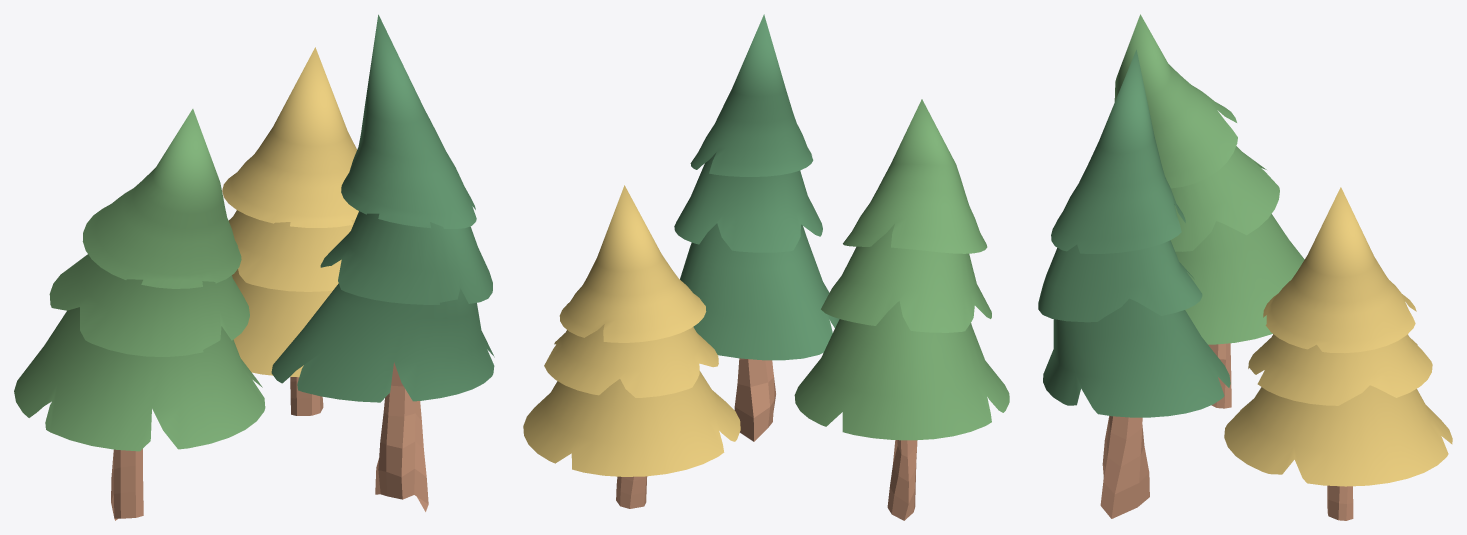
File: tree_bundle.fbx
3 views of the same model, side by side, from view 1: azimuth 30°, elevation 25°; view 2: azimuth 150°, elevation 25°; view 3: azimuth 270°, elevation 25° (orthographic). The views are drawn at different scales.
Visible parts, largest first — view 1: Cone.004, Cone.002, Cone.003, Cube.002, Cube.006, Cube.005; view 2: Cone.004, Cone.003, Cone.002, Cube.002, Cube.006, Cube.005; view 3: Cone.003, Cone.002, Cone.004, Cube.002, Cube.005, Cube.006.
Boxes of the visible parts, x1,y1,x2,y2 form: Cone.004: (14,109,265,451); Cone.002: (271,14,494,402); Cone.003: (222,47,358,377); Cube.002: (375,362,428,511); Cube.006: (111,449,143,520); Cube.005: (290,377,323,415); Cone.004: (794,99,1009,440); Cone.003: (523,185,740,476); Cone.002: (674,14,839,360); Cube.002: (734,358,775,441); Cube.006: (887,440,917,520); Cube.005: (616,476,647,508); Cone.003: (1224,187,1452,486); Cone.002: (1038,49,1230,417); Cone.004: (1114,14,1304,344); Cube.002: (1100,416,1149,518); Cube.005: (1327,485,1353,520); Cube.006: (1208,343,1231,408).
Bounding box in the file's own units: 454 × 474 × 391.
